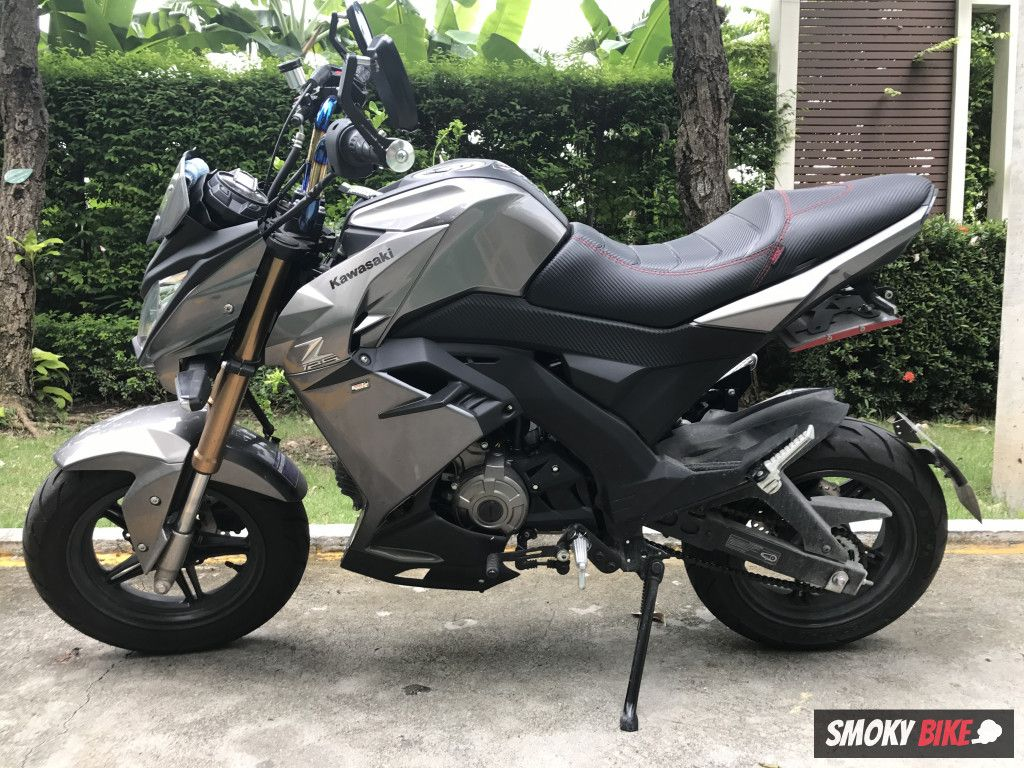motorcycle: (26, 106, 982, 673)
